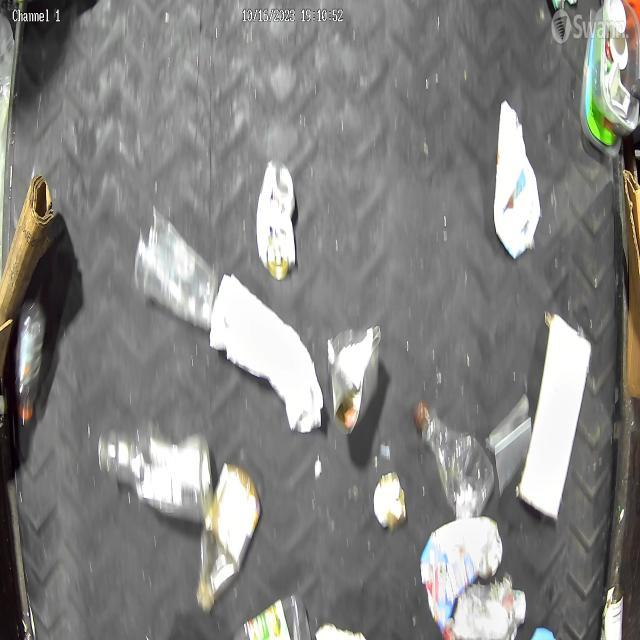can: (326, 319, 384, 436), (254, 156, 298, 284), (602, 582, 626, 640)
plastic_bottle: (96, 416, 214, 528), (194, 459, 262, 613), (412, 396, 496, 520), (11, 296, 48, 424)
